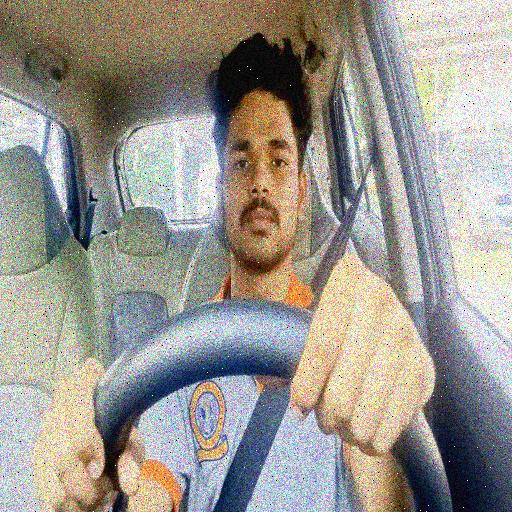Normal: (204, 28, 314, 335)
